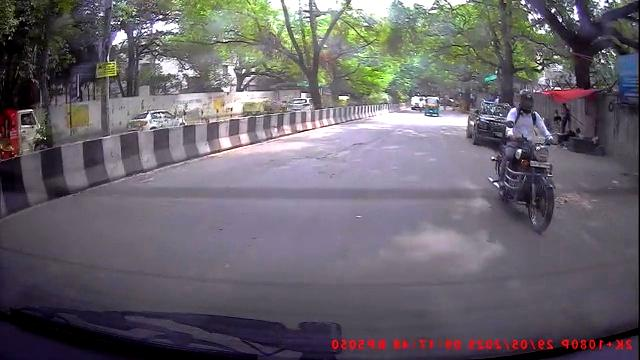motorcycle_with_helmet: (490, 87, 562, 235)
